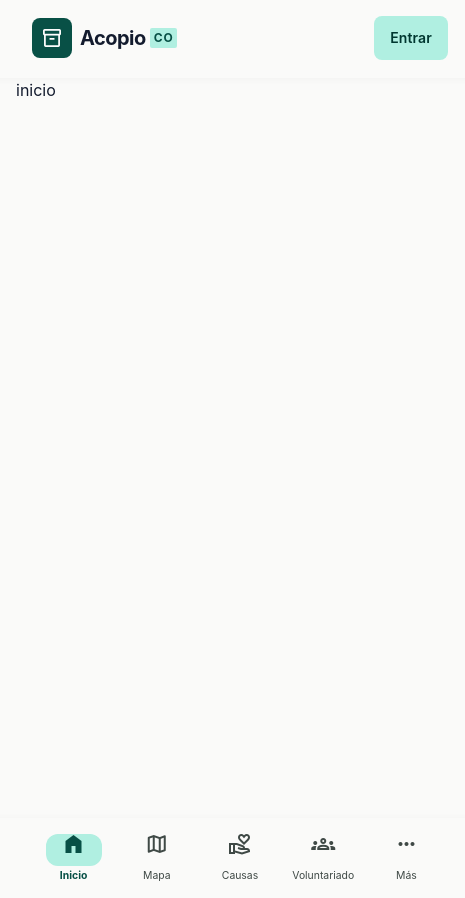
Test: al tocar Mapa en la barra, la página entra desde la derecha
The image size is (465, 898).
Check: the text "inicio" is shown, box x1=16 y1=80 x2=56 y2=100
Step 1. Click the link "Mapa" → click(157, 856), box x1=143 y1=830 x2=170 y2=882
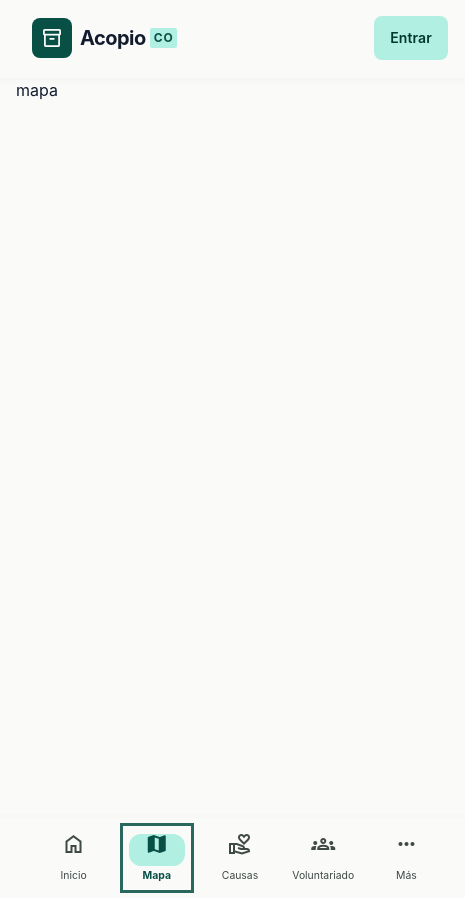
Check: the text "mapa" is shown, box x1=16 y1=80 x2=58 y2=100
